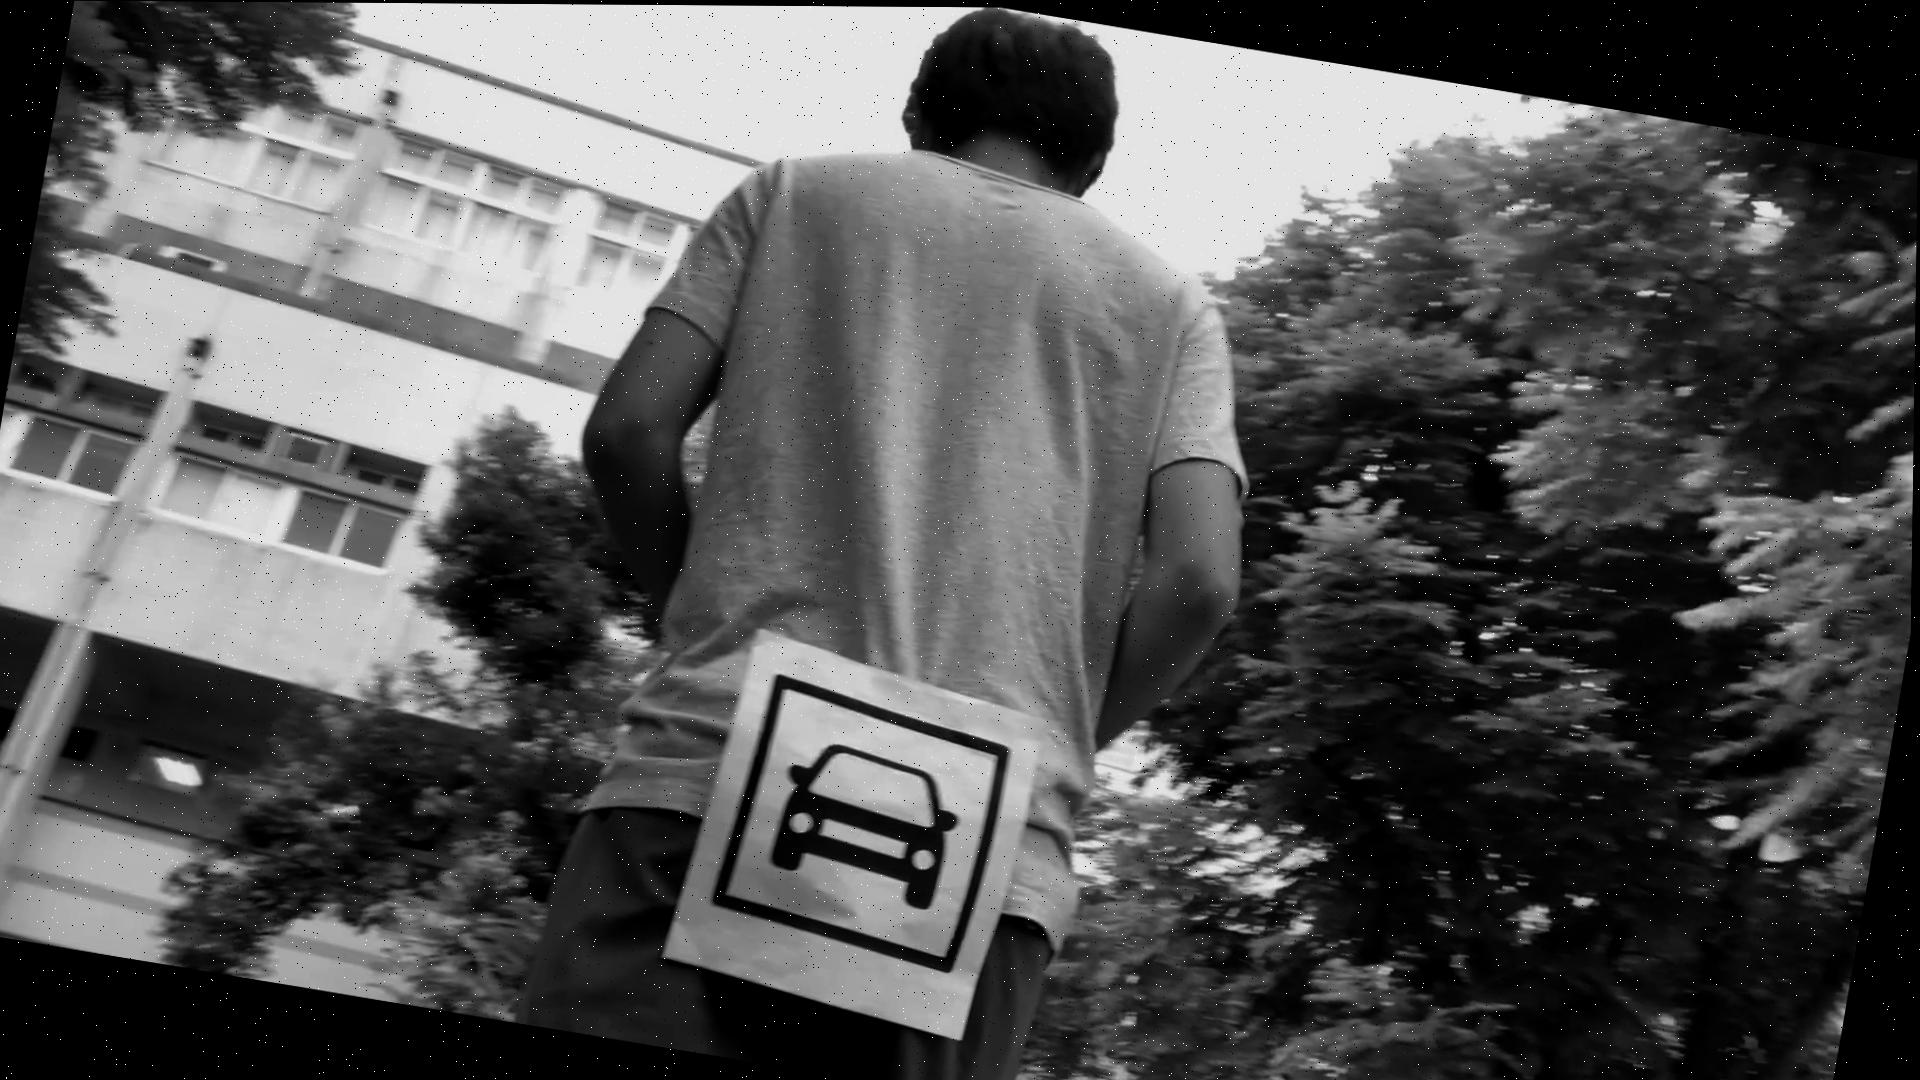car_img: (708, 667, 1019, 976)
